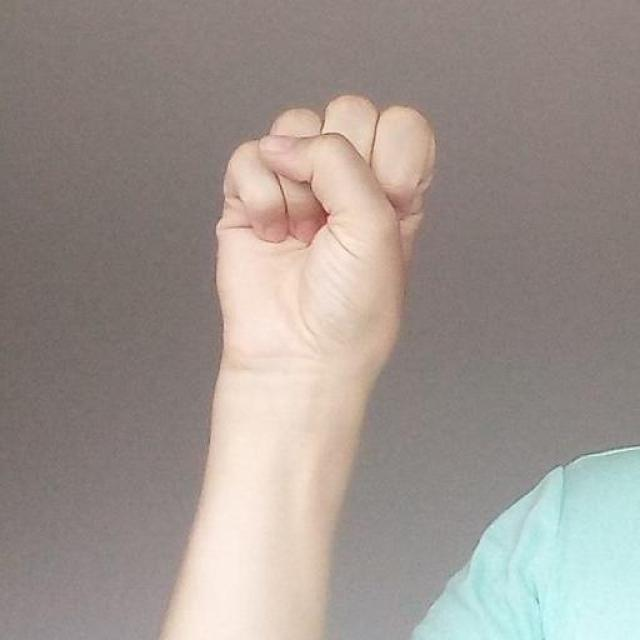hand: (212, 91, 438, 380)
